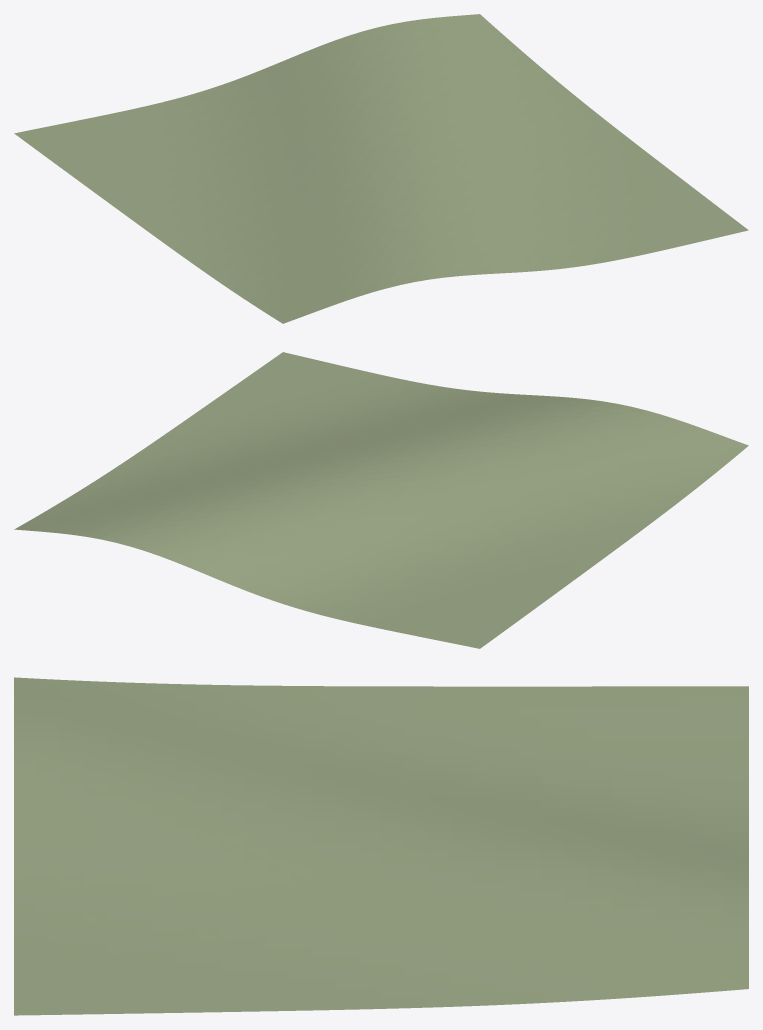
Rendered from desert-6-8.glb.
3 renders of one model, top to bottom at view 1: azimuth 30°, elevation 25°; view 2: azimuth 150°, elevation 25°; view 3: azimuth 270°, elevation 25°, orthographic. The views are drawn at different scales.
Visible parts, largest first — view 1: desert-6-8; view 2: desert-6-8; view 3: desert-6-8.
Boxes of the visible parts, bbox=[...] form: desert-6-8: bbox=[14, 14, 748, 323]; desert-6-8: bbox=[14, 352, 748, 648]; desert-6-8: bbox=[14, 677, 748, 1015].
Bounding box in the file's own units: 512 × 32.59 × 512.
